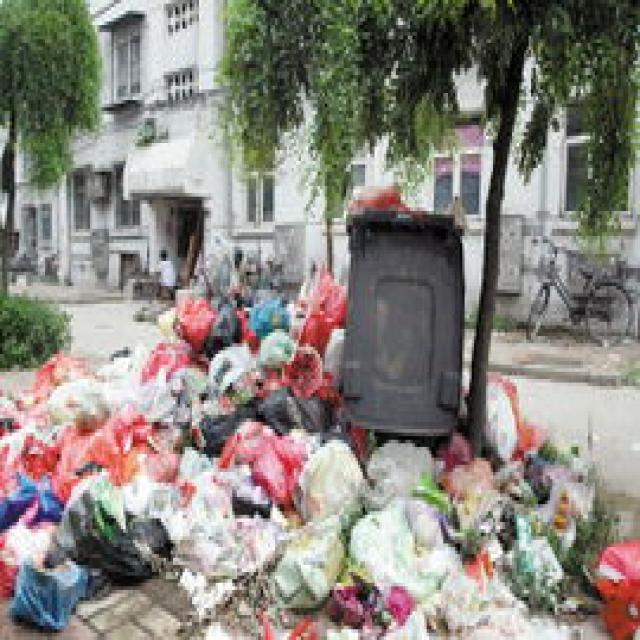garbage: (0, 264, 638, 636)
overflow: (337, 182, 462, 436)
